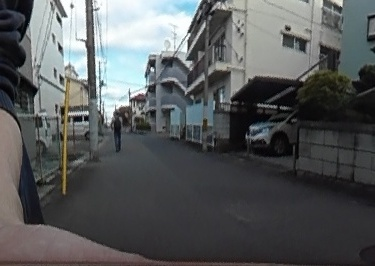person: (110, 109, 123, 152)
